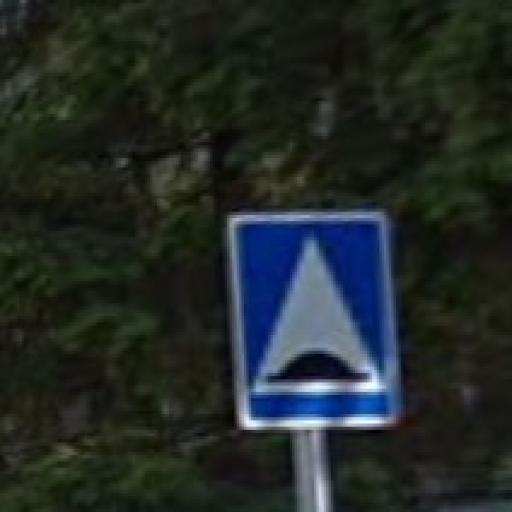traffic_sign: (228, 210, 404, 431)
